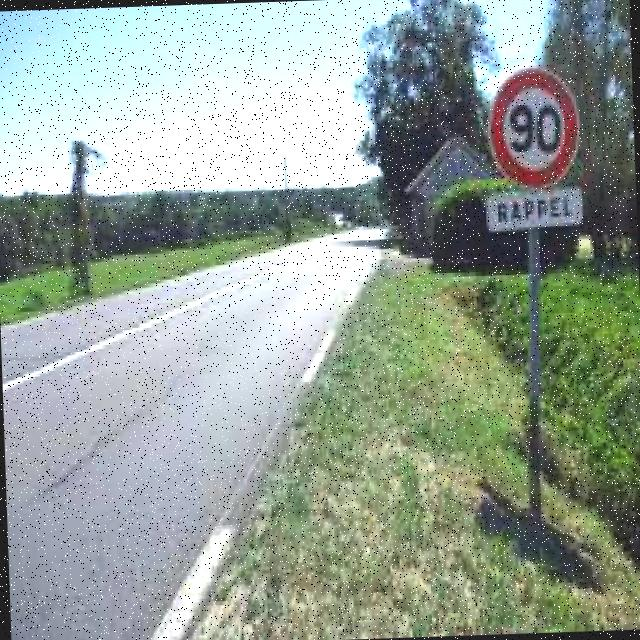Ograniczenie predkosci do 90: (491, 62, 582, 186)
